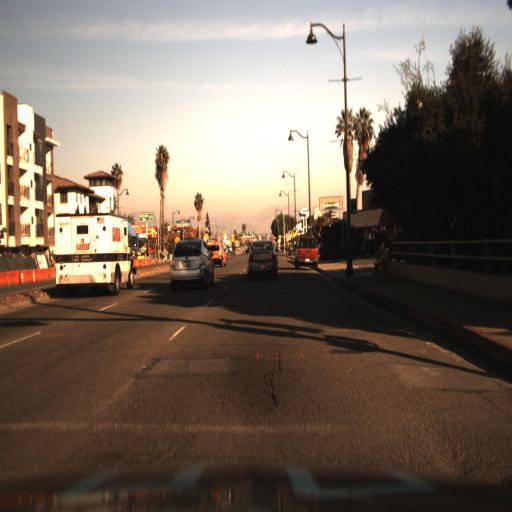car: (42, 200, 144, 298), (170, 241, 216, 290), (243, 238, 278, 282), (293, 237, 316, 272), (208, 236, 228, 272)
truck: (55, 209, 136, 295)
